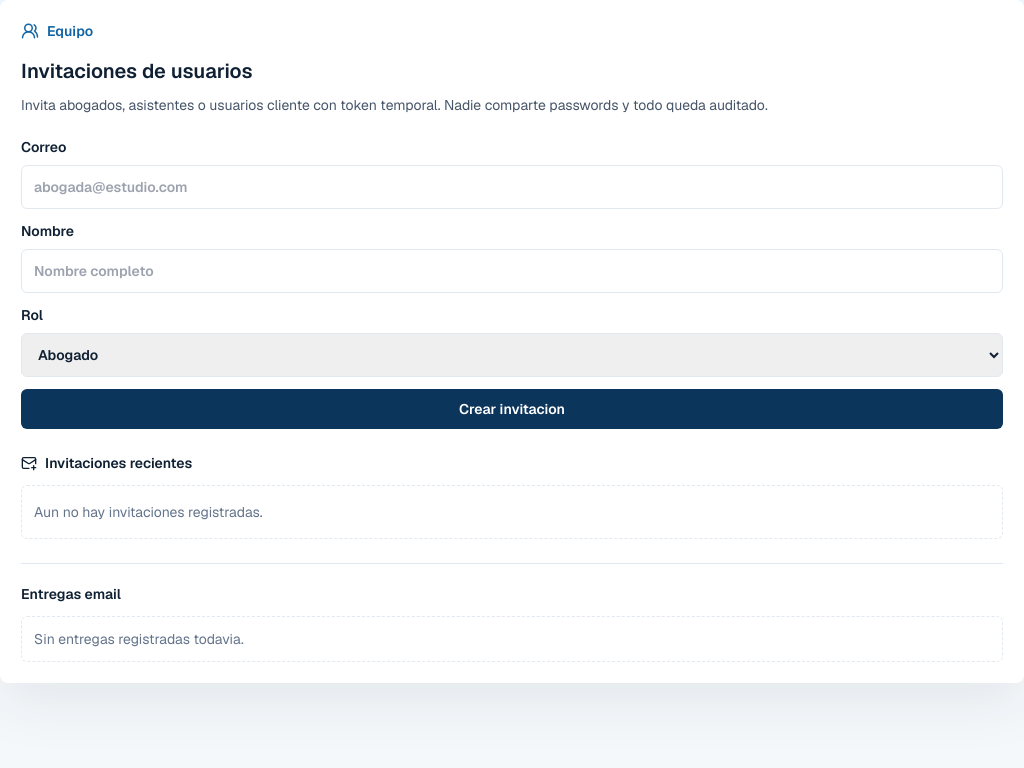
Test case: UserInvitations › creates a tenant invitation without exposing tokens in the list
The image size is (1024, 768).
expect the text "Aun no hay invitaciones registradas." is shown: met, box [21,485,1003,539]
In the field labelled "Correo": (512, 187) [21,165,1003,209], type "newlawyer@lexflow.com"
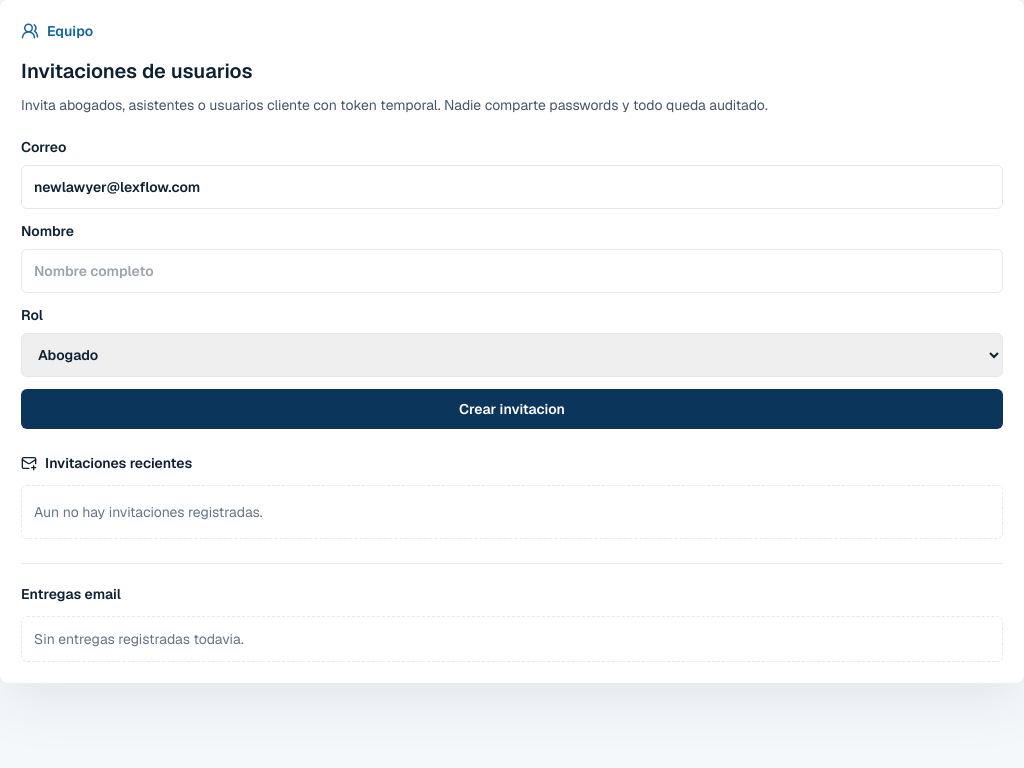
In the field labelled "Nombre": (512, 271) [21,249,1003,293], type "New Lawyer"
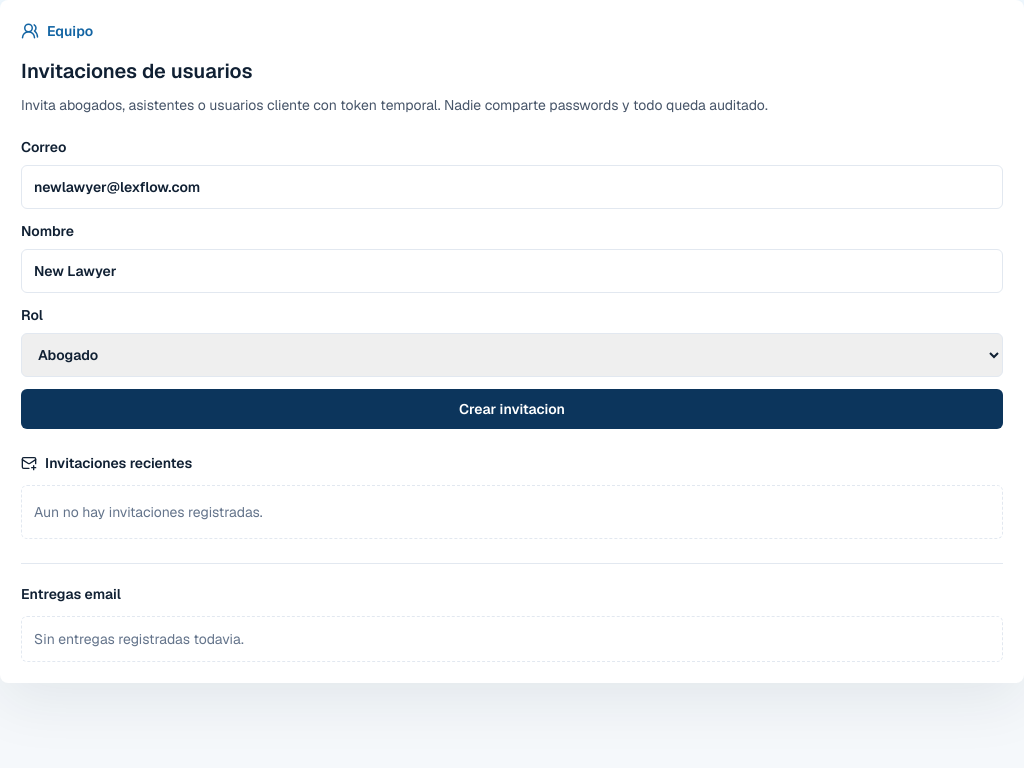
Click the button "Crear invitacion": (512, 409) [21,389,1003,429]
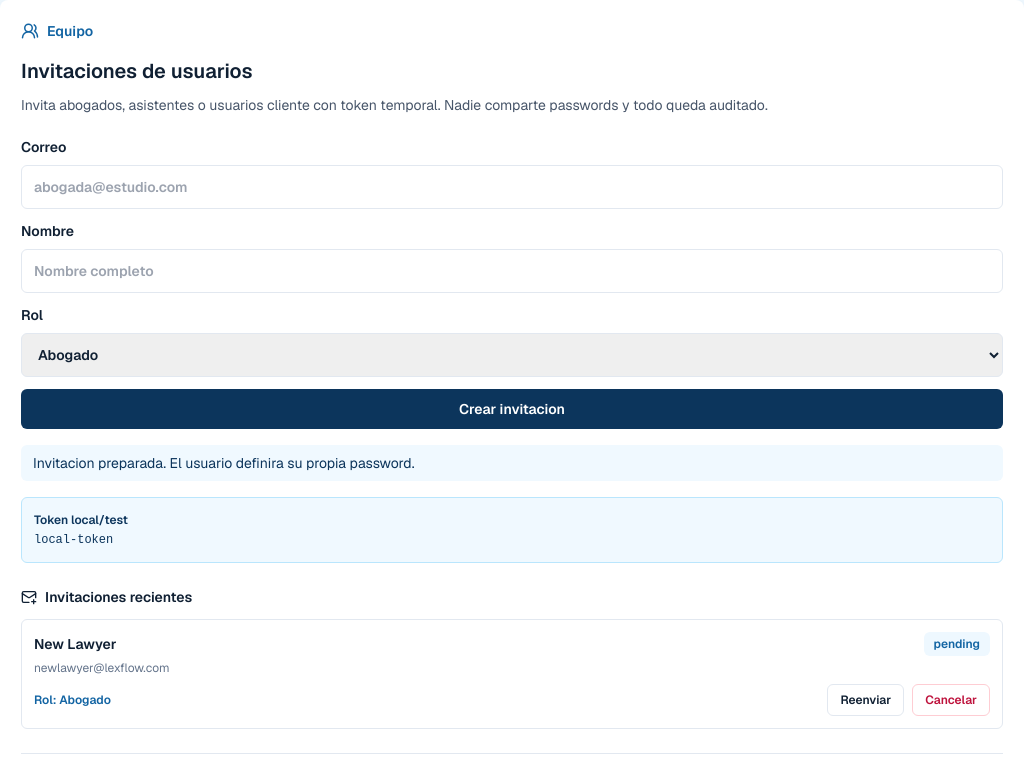
expect the text "Invitacion preparada. El usuario definira su propia password." is shown: met, box [21,445,1003,481]
expect the text "local-token" is shown: met, box [34,533,113,547]
expect the text "New Lawyer" is shown: met, box [34,634,116,654]
